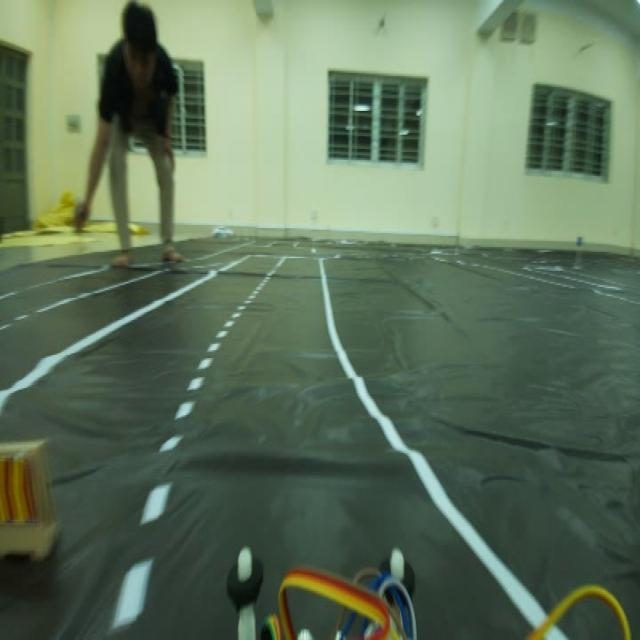roadblock: (1, 436, 56, 559)
